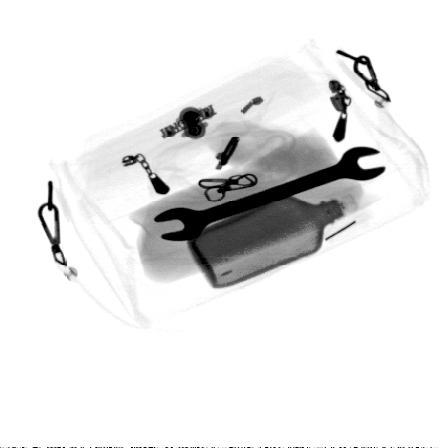Wrench: (153, 145, 388, 243)
